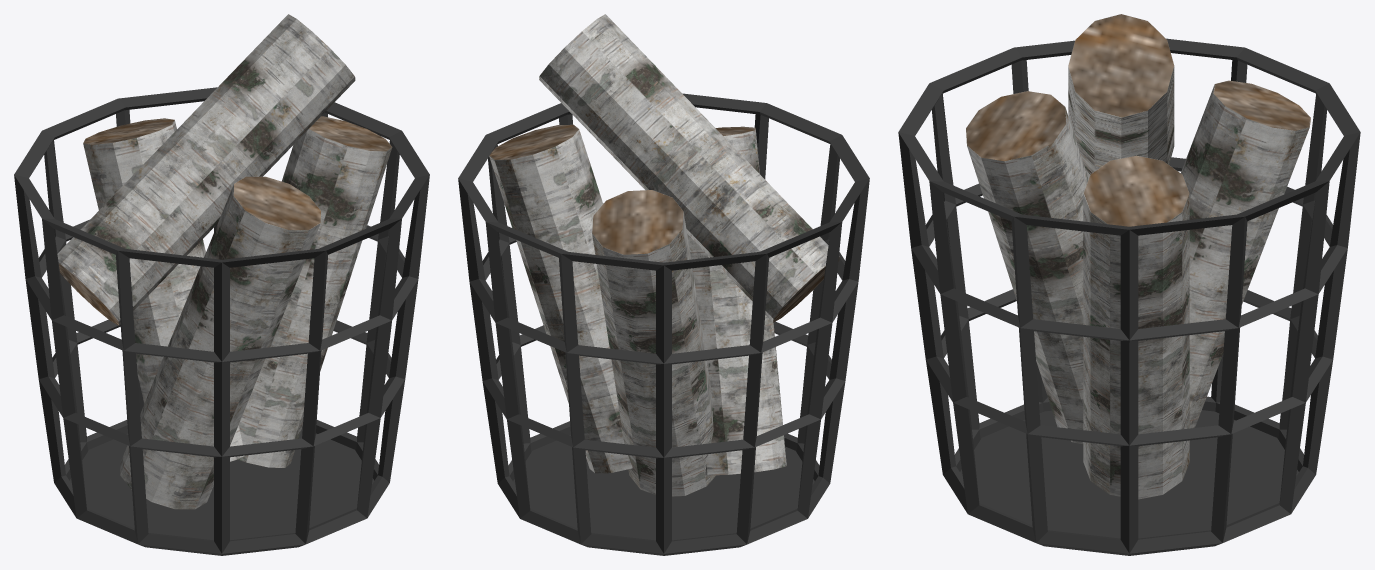
Rendered from wood canl.fbx.
3 renders of one model, left to right at view 1: azimuth 30°, elevation 25°; view 2: azimuth 150°, elevation 25°; view 3: azimuth 270°, elevation 25°, orthographic. The views are drawn at different scales.
Visible parts, largest first — view 1: Cylinder.005, Cylinder.004; view 2: Cylinder.005, Cylinder.004; view 3: Cylinder.004, Cylinder.005.
Part boxes in pixels (<box>): Cylinder.005: <box>57,14,392,509</box>; Cylinder.004: <box>14,87,429,555</box>; Cylinder.005: <box>489,14,839,496</box>; Cylinder.004: <box>458,93,869,555</box>; Cylinder.004: <box>898,38,1360,555</box>; Cylinder.005: <box>966,14,1310,499</box>.
Bounding box in the file's own units: 238 × 289 × 238.
